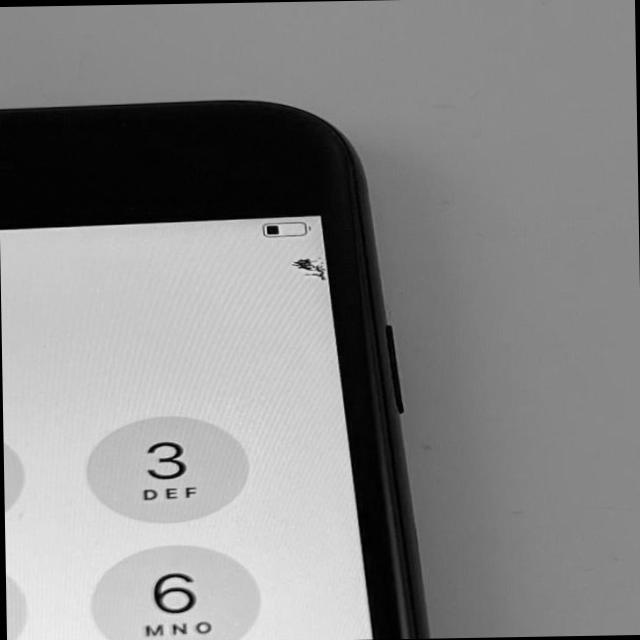dead pixel: (238, 226, 368, 298)
